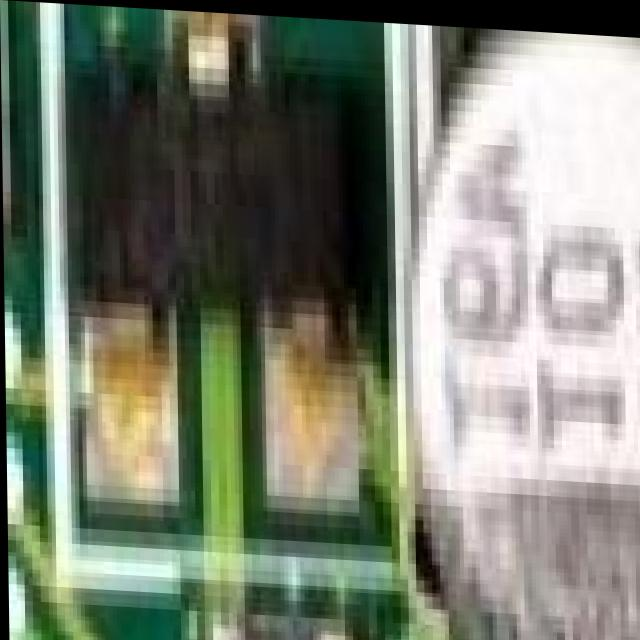capacitor: (412, 19, 640, 640)
resistor: (219, 610, 367, 640)
transistor: (60, 3, 385, 438)
